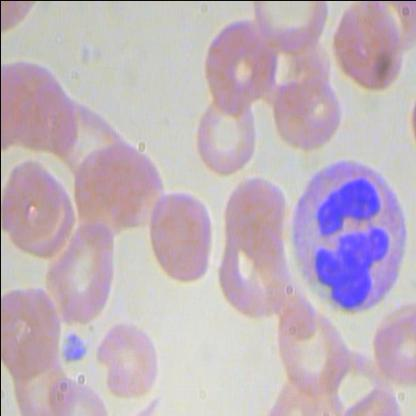Platelets: (58, 332, 90, 368)
RBC: (32, 214, 121, 328), (1, 153, 78, 261), (328, 1, 410, 97), (270, 296, 348, 396), (201, 12, 279, 112), (146, 186, 216, 292), (92, 311, 164, 403), (269, 67, 343, 152), (190, 87, 258, 178), (1, 280, 61, 379), (365, 300, 415, 394)
WBC: (280, 153, 416, 315)
